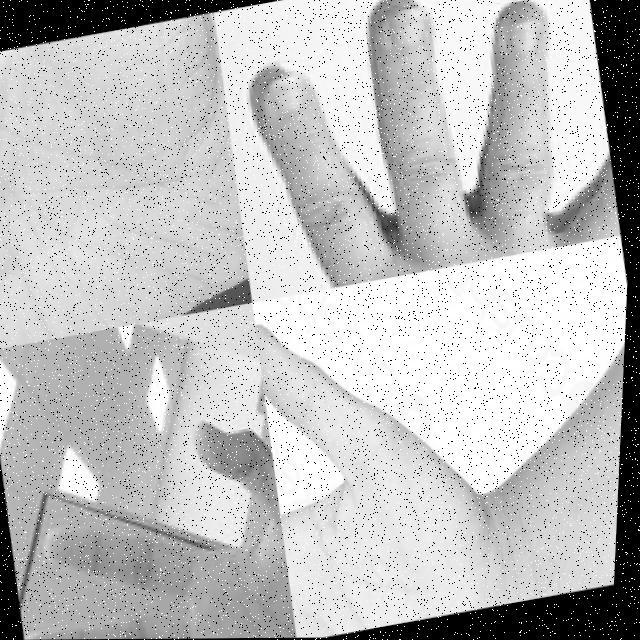no-gloves: (204, 0, 630, 303), (246, 282, 538, 638), (0, 12, 264, 351), (0, 411, 310, 640)
